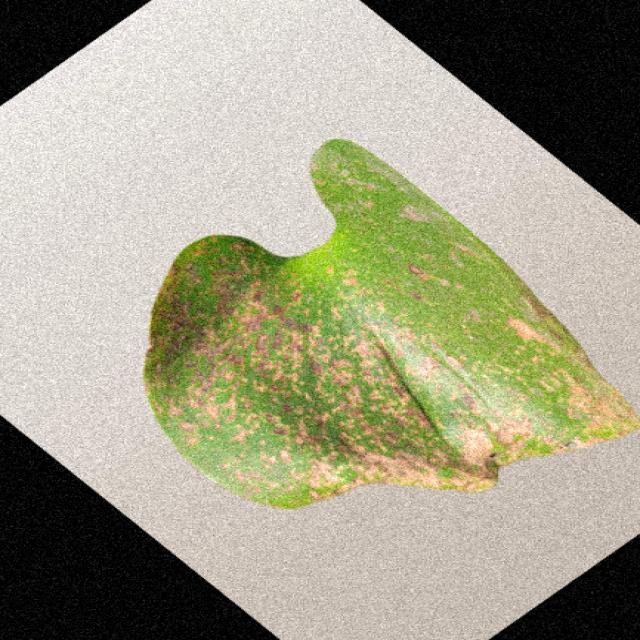daun berpenyakit bercak: (145, 141, 638, 509)
